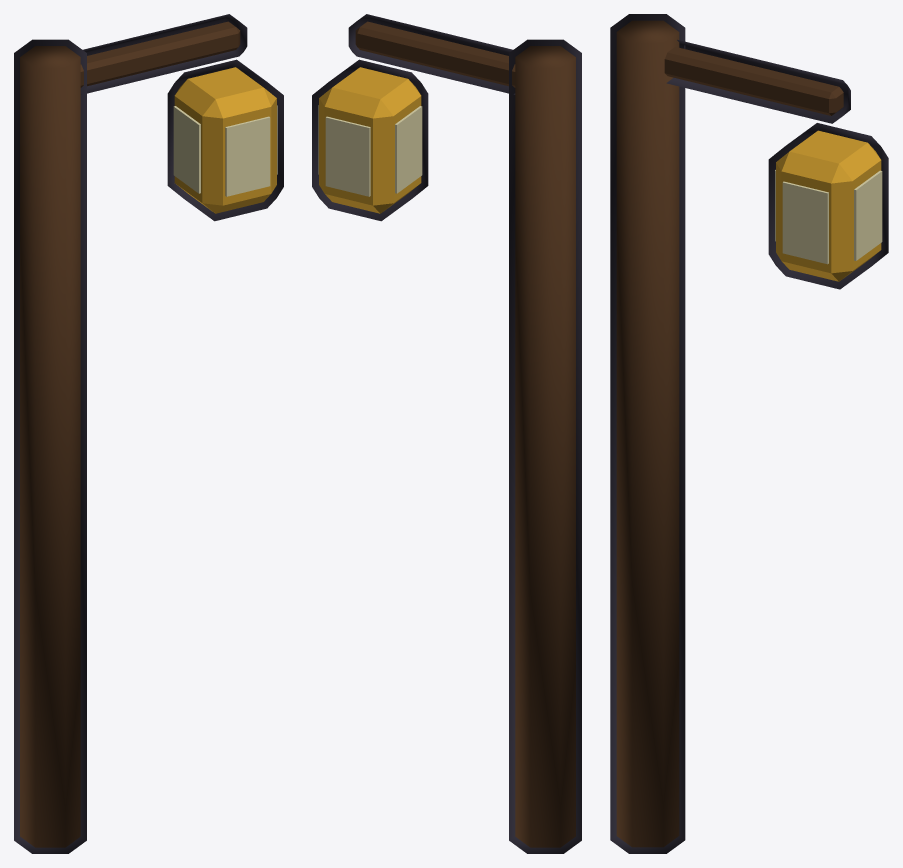
The model's file is lantern_post.glb.
3 renders of one model, left to right at view 1: azimuth 30°, elevation 25°; view 2: azimuth 150°, elevation 25°; view 3: azimuth 330°, elevation 25°, orthographic. The views are drawn at different scales.
Visible parts, largest first — view 1: lantern_post; view 2: lantern_post; view 3: lantern_post.
Boxes of the visible parts, box(x1,y1,x2,y2) form: lantern_post: box(14, 14, 283, 853); lantern_post: box(312, 14, 581, 853); lantern_post: box(610, 14, 888, 853).
Bounding box in the file's own units: 1.12 × 3.44 × 0.3925.
